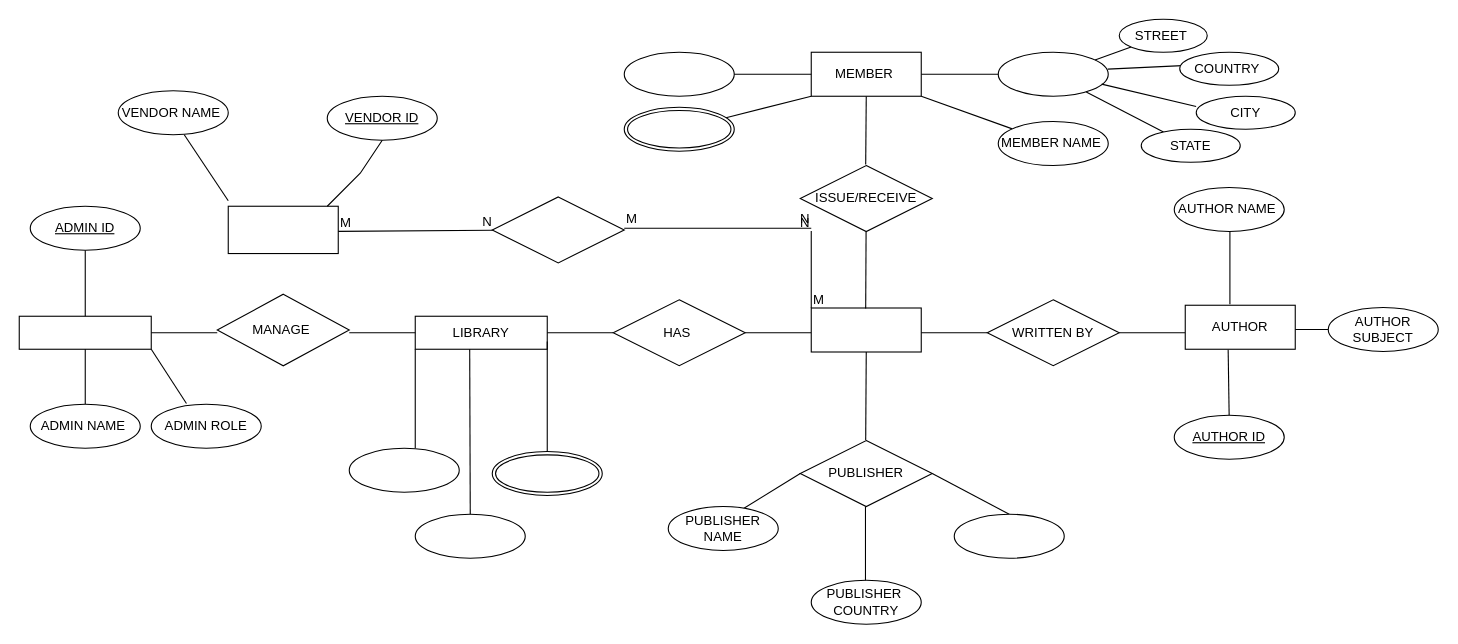
Image size: 1458x644. Some labels were removed from this diagram. The shapes that lost their labels are listed below. From the top down, each one's box as (x1, y1, x2, y2) in pixels, then its label:
(623, 51, 734, 96): MEMBER ID
(997, 51, 1108, 96): MEMBER ADDRESS
(623, 106, 734, 151): CONTACT NO
(227, 205, 338, 254): VENDOR
(491, 196, 624, 263): SALES
(18, 315, 151, 349): ADMIN
(810, 307, 921, 352): BOOKS
(348, 447, 459, 492): LIBRARY NAME
(491, 450, 602, 496): LIBRARY CONTACT NO
(414, 513, 525, 558): LIBRARY ADDRESS
(953, 513, 1064, 558): PUBLISHER ID
